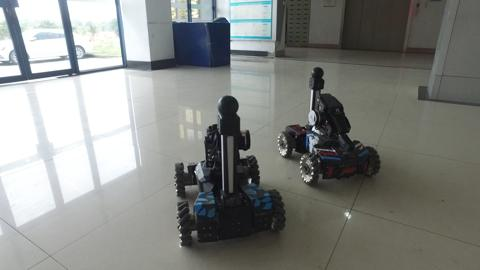chariot: (158, 92, 298, 255), (273, 61, 387, 191)
